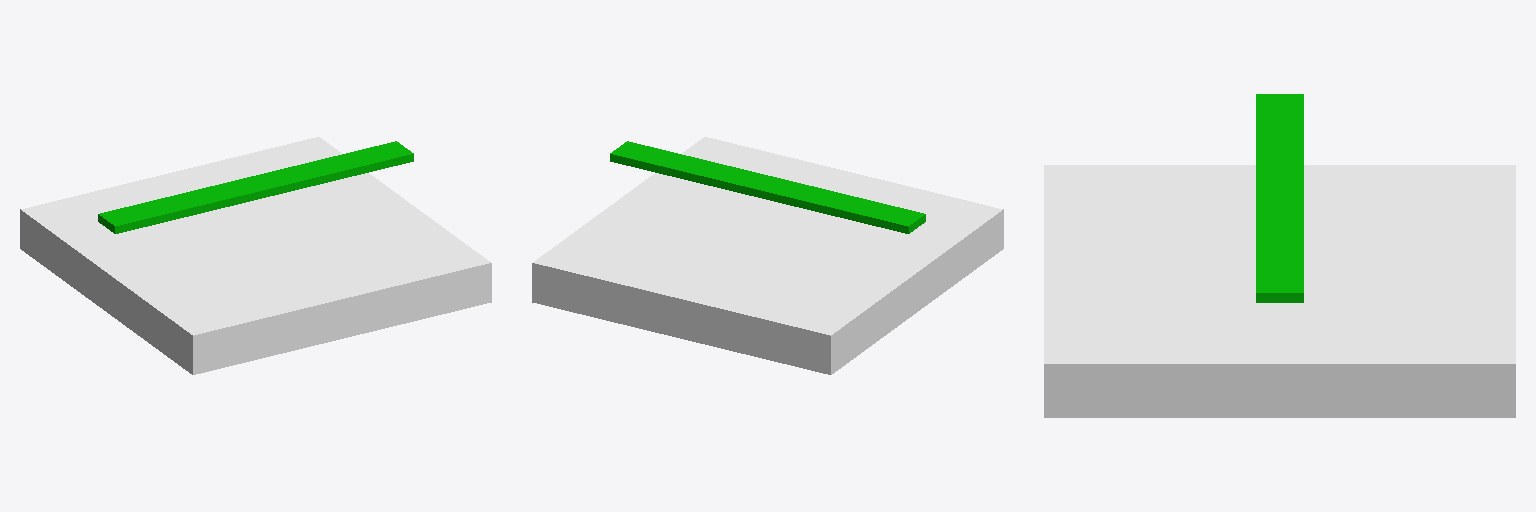
robot.urdf — 134-tape-dispenser-bot:
<?xml version="1.0"?>

<robot name="134-tape-dispenser-bot">

  <!-- ******************** Materials ******************** -->

  <material name="white">
    <color rgba="1.0 1.0 1.0 1"/>
  </material>

  <material name="gray">
    <color rgba="0.6 0.6 0.6 1"/>
  </material>

  <material name="red">
    <color rgba=".82 0.06 0.06 1"/>
  </material>

  <material name="blue">
    <color rgba=".06 0.8 0.06 1"/>
  </material>


  <!-- ************************* ROBOT DEFINITION ************************* -->

  <link name="world">
  </link>


  <!-- Base plate -->
  <joint name="baseplate_attachment"  type="fixed">
    <origin xyz="0 0 0" rpy="0 0 0" />
    <parent link="world"/>
    <child link="baseplate"/>
  </joint>

  <link name="baseplate">
    <visual>
      <origin xyz="0 0 -.0127" rpy="0 0 0" />
      <geometry>
        <box size="0.2 0.2 0.0254" />
      </geometry>
      <material name="white"/>
    </visual>
  </link>

  <!-- Base Motor Body -->
  <joint name="basemotor_attachment" type="fixed">
    <parent link="baseplate"/>
    <child  link="basemotor"/>
    <origin xyz="0 0 0" rpy="1.57 0 0"/>
  </joint>

  <link name="basemotor">
    <visual>
      <origin xyz="0 0 0" rpy="0 0 0" />
      <geometry>
        <mesh filename="package://hebiros_description/meshes/x5.stl" scale="0.001 0.001 0.001"/>
      </geometry>
      <material name="red"/>
    </visual>
  </link>
  

  <!-- Base Joint -->
  <joint name="Arm/tapedispenser" type="continuous">
    <parent link="baseplate"/>
    <child  link="link1"/>
    <origin xyz="0 0 0.031" rpy="0 0 0"/>
    <axis xyz="0 0 1"/>
  </joint>

  <!-- Link 1 -->
  <link name="link1">
    <visual>
      <origin xyz="0 0 0" rpy="0 0 0" />
      <geometry>
        <box size="0.2 0.02 0.005" />
      </geometry>
      <material name="blue"/>
    </visual>
  </link>

</robot>

--- What the picture shows (computed from the rendered views, not written in the file) ---
3 views of the same robot in one strip: view 1: azimuth 30°, elevation 25°; view 2: azimuth 150°, elevation 25°; view 3: azimuth 270°, elevation 25° (orthographic).
Model 134-tape-dispenser-bot with 4 links and 3 joints (1 continuous, 2 fixed), rooted at world, posed every joint at zero.
Links seen in each view (by area): view 1: baseplate, link1; view 2: baseplate, link1; view 3: baseplate, link1.
Link boxes in pixels (x1,y1,x2,y2): baseplate: (20, 137, 491, 374); link1: (98, 141, 413, 233); baseplate: (532, 137, 1003, 374); link1: (610, 141, 925, 233); baseplate: (1044, 165, 1515, 417); link1: (1256, 94, 1303, 302).
Size in the robot's own frame: 0.2 by 0.2 by 0.0589 metres.
Meshes: 1 distinct files referenced, 0 mesh visuals loaded (none loaded); not drawn: 1 (reference not matched to a file when rendering).